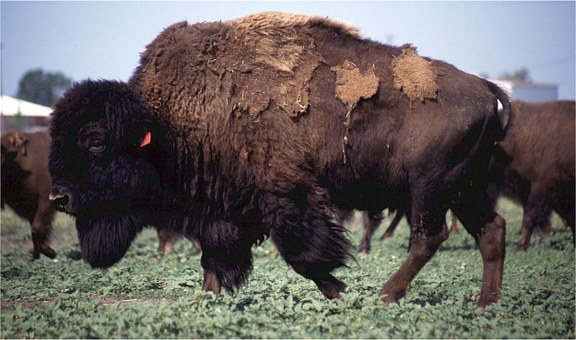zubr: (39, 8, 535, 323)
